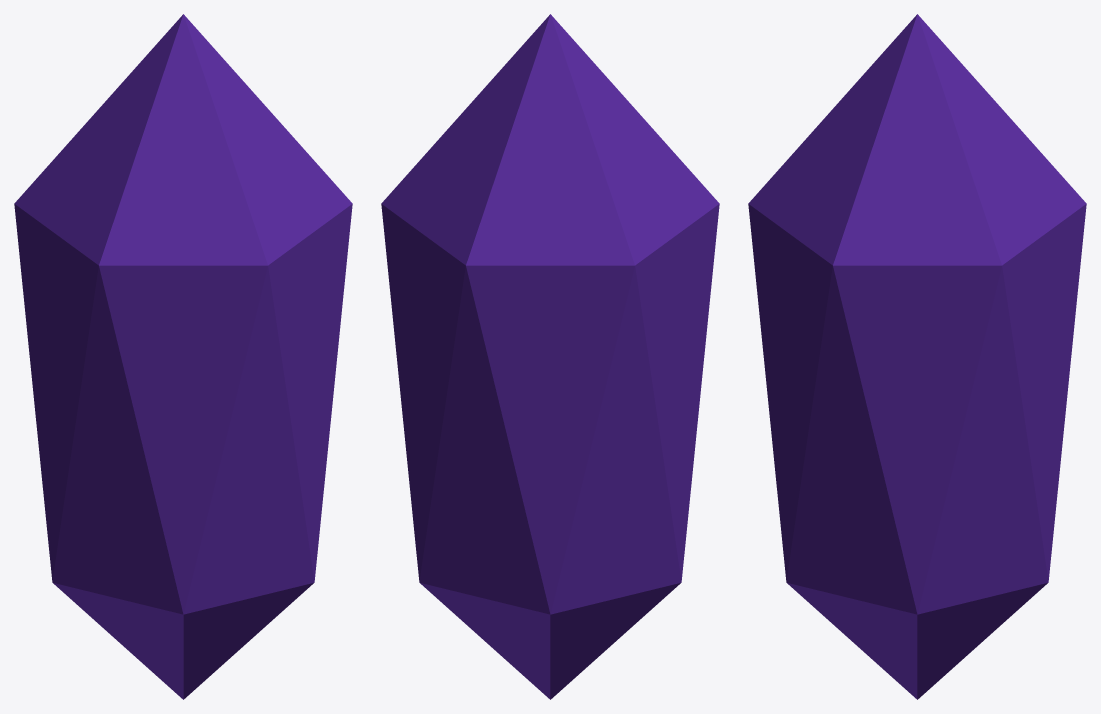
The model's file is crystal.obj.
3 renders of one model, left to right at view 1: azimuth 30°, elevation 25°; view 2: azimuth 150°, elevation 25°; view 3: azimuth 270°, elevation 25°, orthographic.
Visible parts, largest first — view 1: ITEM_Crystal.001_MAT_CrystalVoid; view 2: ITEM_Crystal.001_MAT_CrystalVoid; view 3: ITEM_Crystal.001_MAT_CrystalVoid.
Part boxes in pixels (left/top/right/bottom): ITEM_Crystal.001_MAT_CrystalVoid: left=14, top=14, right=352, bottom=699; ITEM_Crystal.001_MAT_CrystalVoid: left=381, top=14, right=719, bottom=699; ITEM_Crystal.001_MAT_CrystalVoid: left=748, top=14, right=1086, bottom=699.
Size of the model in its own units: 0.68 by 1.7 by 0.76.
